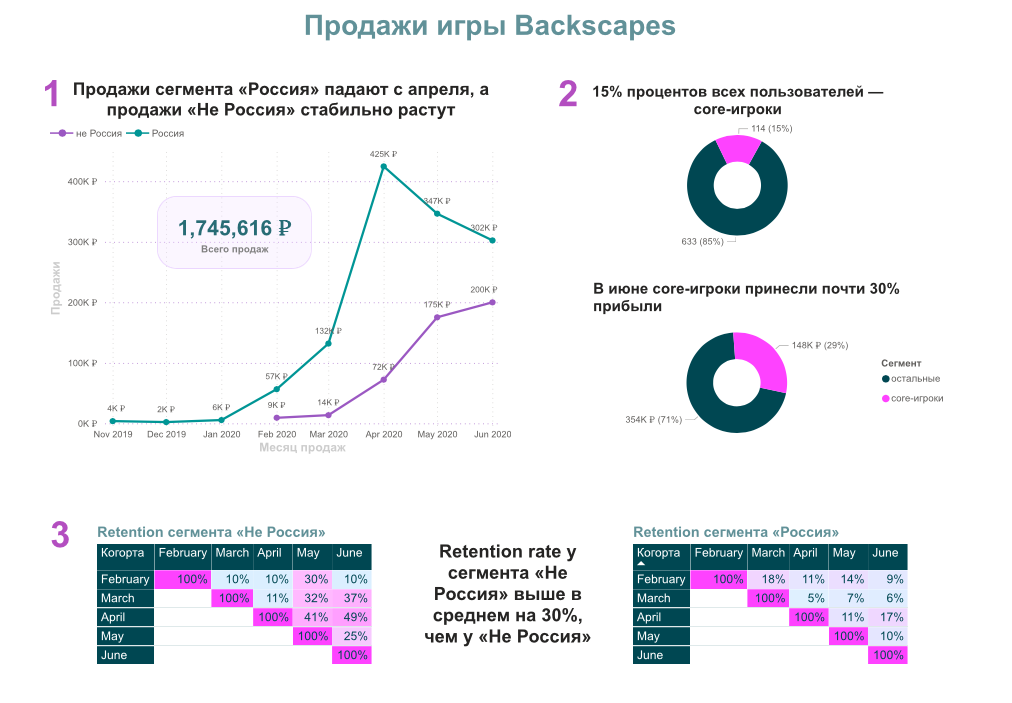

Layout of this report page (visuals, bound fields, positions):
{"tool":"powerbi","page":{"name":"Backscapes","canvas":[1286,1000],"ordinal":0},"visuals":[{"type":"pivotTable","title":"Retention сегмента «Не Россия»","fields":{"Rows":["cohorts_not_russia.min_date"],"Columns":["cohorts_not_russia.date_trunc"],"Values":["cohorts_not_russia.retention_rate_not_russia"]},"box":[96.1,703.2,403.9,206.9],"z":0},{"type":"pivotTable","title":"Retention сегмента «Россия» ","fields":{"Columns":["cohorts_russia.date_trunc"],"Rows":["cohorts_russia.min_date"],"Values":["cohorts_russia.retention rate"]},"box":[801.7,703.2,420,199.5],"z":1000},{"type":"textbox","box":[45.7,21.4,1145.8,53.5],"z":2000},{"type":"lineChart","title":"Продажи сегмента «Россия» падают с апреля, а продажи «Не Россия» стабильно растут ","fields":{"Category":["purchases_per_countries_full.month"],"Y":["Sum(purchases_per_countries_full.amount)"],"Series":["purchases_per_countries_full.is_russia"]},"box":[34.5,117,618.2,498.8],"z":3000},{"type":"donutChart","title":"15% процентов всех пользователей  — core-игроки","fields":{"Y":["Count(revenues_by_segments.user_id)"],"Category":["revenues_by_segments.is_core"]},"box":[725.4,121.9,438.4,224.1],"z":4000},{"type":"donutChart","title":"В июне сore-игроки принесли  почти 30% прибыли","fields":{"Y":["Sum(revenues_by_segments.june_amount)"],"Category":["revenues_by_segments.is_core"]},"box":[750,381.8,481.5,225.4],"z":5000},{"type":"textbox","box":[519.7,720.4,246.3,172.4],"z":6000},{"type":"card","fields":{"Values":["Sum(purchases_per_countries_full.amount)"]},"box":[181,270.9,203.2,96.1],"z":7000},{"type":"textbox","box":[23.4,103.4,44.3,71.4],"z":8000},{"type":"textbox","box":[703.2,103.4,44.3,71.4],"z":9000},{"type":"textbox","box":[34.5,684.7,44.3,71.4],"z":10000}]}

Visuals, with their boxes on the page's 1286x1000 design canvas (x1, y1, x2, y2). These are canvas units, not pixel positions in the 1012x703 screenshot, which may show the page scaled, cropped or inside an application window:
"Retention сегмента «Не Россия»" pivotTable: {"left": 96, "top": 703, "right": 500, "bottom": 910}
"Retention сегмента «Россия» " pivotTable: {"left": 802, "top": 703, "right": 1222, "bottom": 903}
textbox: {"left": 46, "top": 21, "right": 1192, "bottom": 75}
"Продажи сегмента «Россия» падают с апреля, а продажи «Не Россия» стабильно растут " lineChart: {"left": 34, "top": 117, "right": 653, "bottom": 616}
"15% процентов всех пользователей  — core-игроки" donutChart: {"left": 725, "top": 122, "right": 1164, "bottom": 346}
"В июне сore-игроки принесли  почти 30% прибыли" donutChart: {"left": 750, "top": 382, "right": 1232, "bottom": 607}
textbox: {"left": 520, "top": 720, "right": 766, "bottom": 893}
card - Sum(purchases_per_countries_full.amount): {"left": 181, "top": 271, "right": 384, "bottom": 367}
textbox: {"left": 23, "top": 103, "right": 68, "bottom": 175}
textbox: {"left": 703, "top": 103, "right": 748, "bottom": 175}
textbox: {"left": 34, "top": 685, "right": 79, "bottom": 756}
